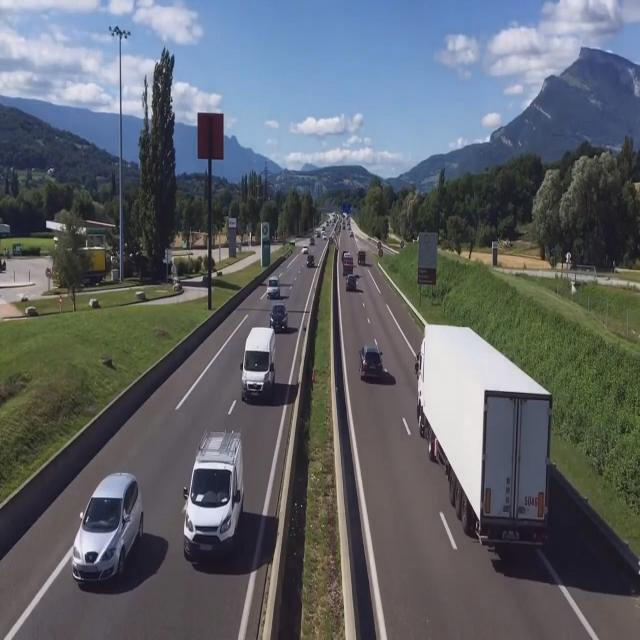bus: (238, 327, 274, 404)
car: (72, 474, 148, 595), (181, 426, 244, 567), (359, 342, 385, 384), (269, 301, 288, 335)
truck: (418, 323, 552, 578)
